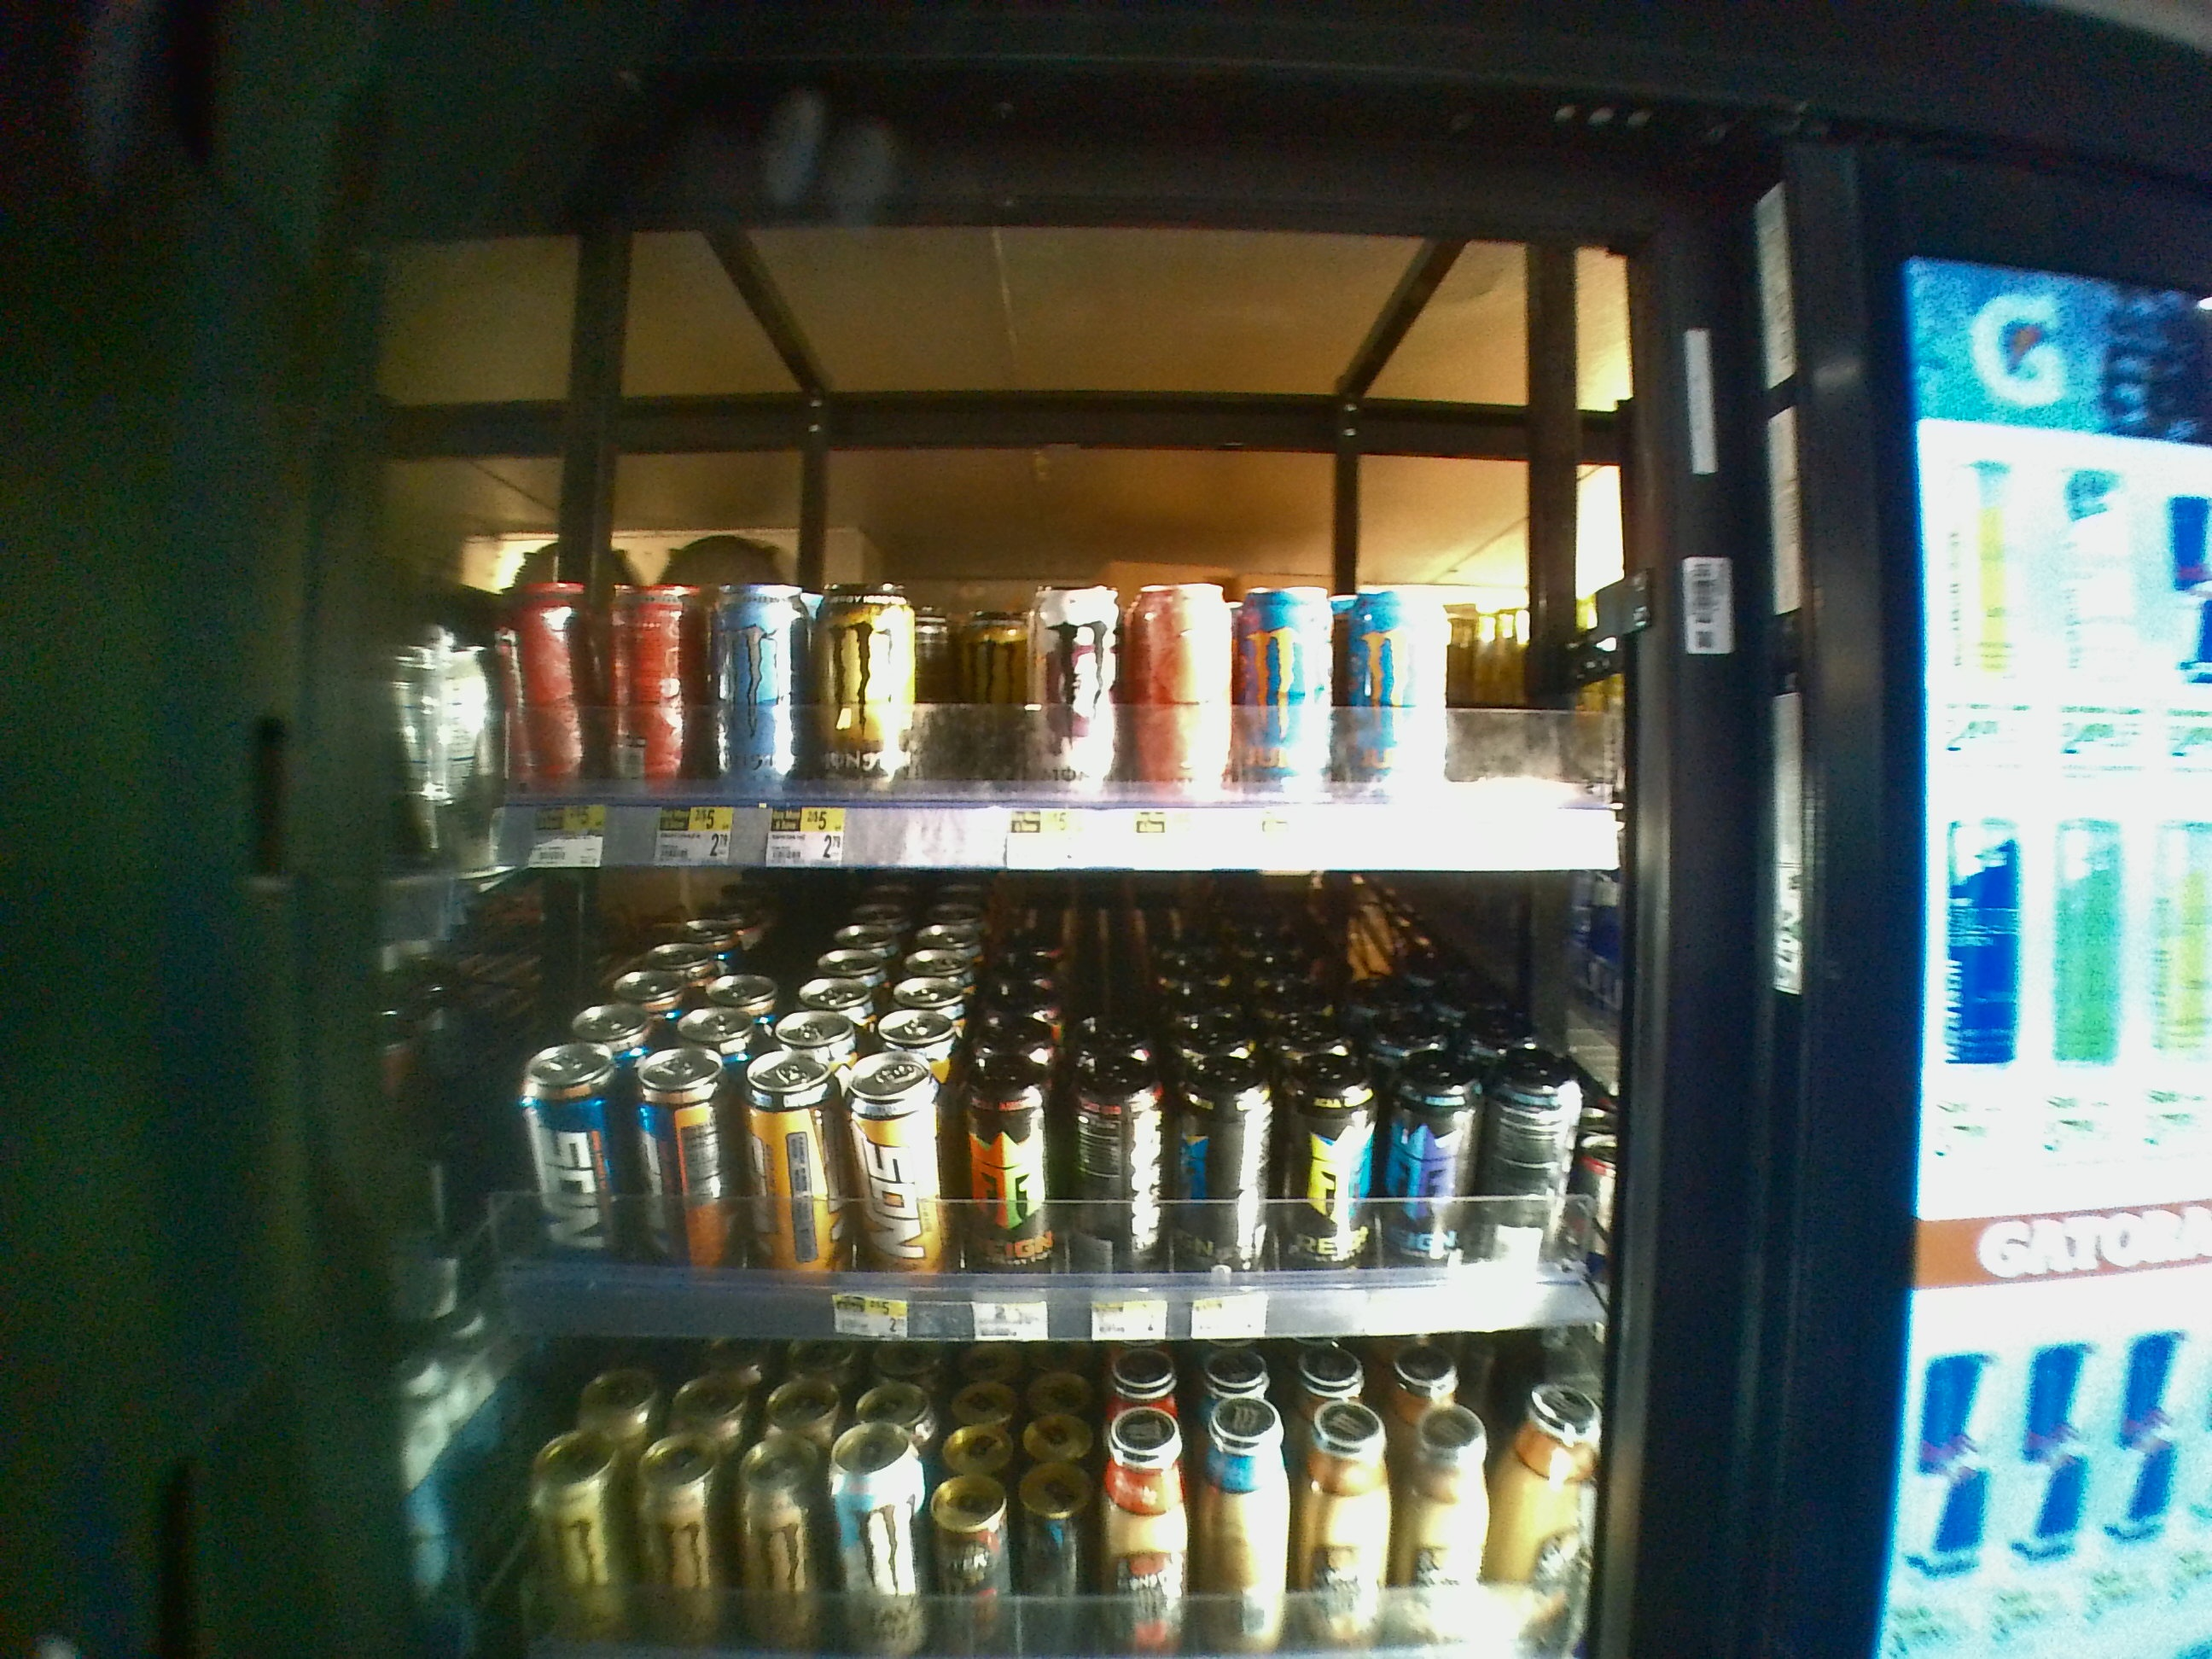shelf: (392, 234, 1653, 871), (388, 866, 1658, 1338)
